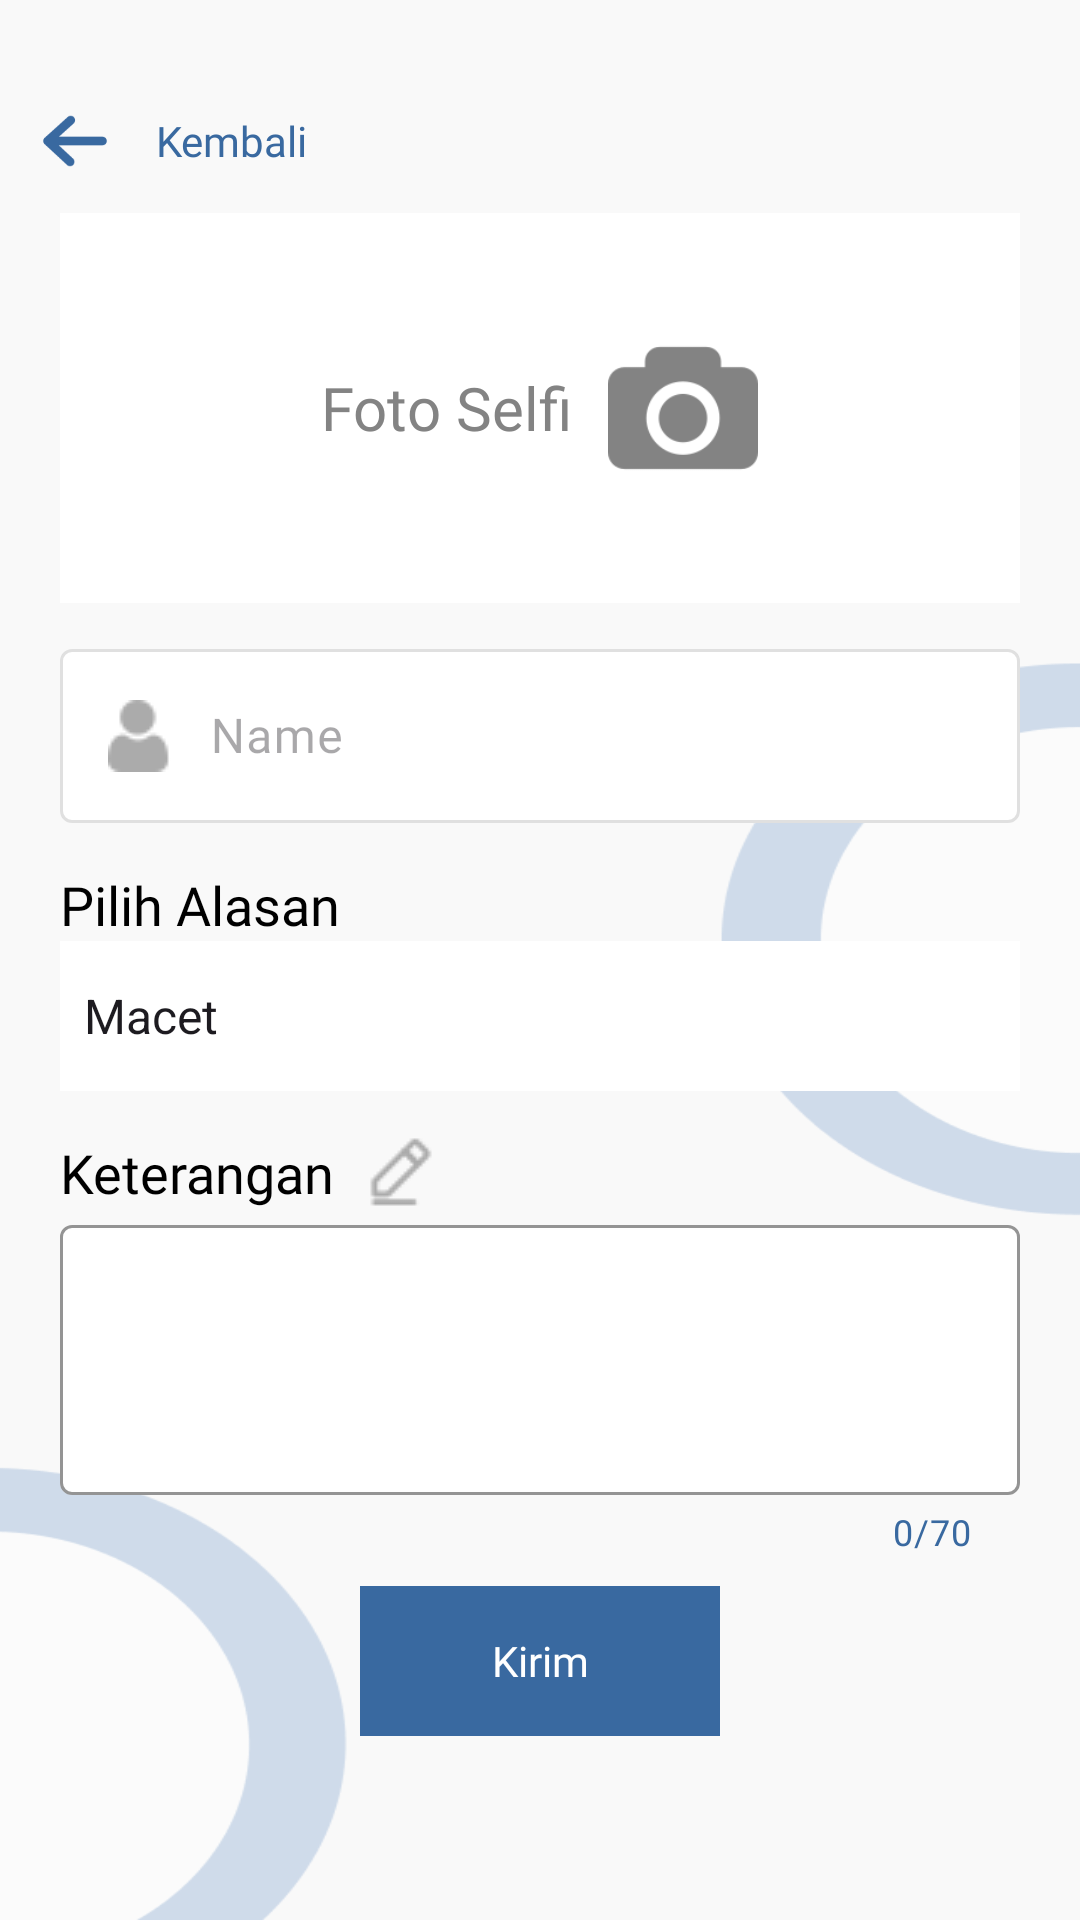

Point at icon controls on the screen. Image size 1080px×1920px, points as (x,y).
camera: (683,408)
leftarow: (75,141)
